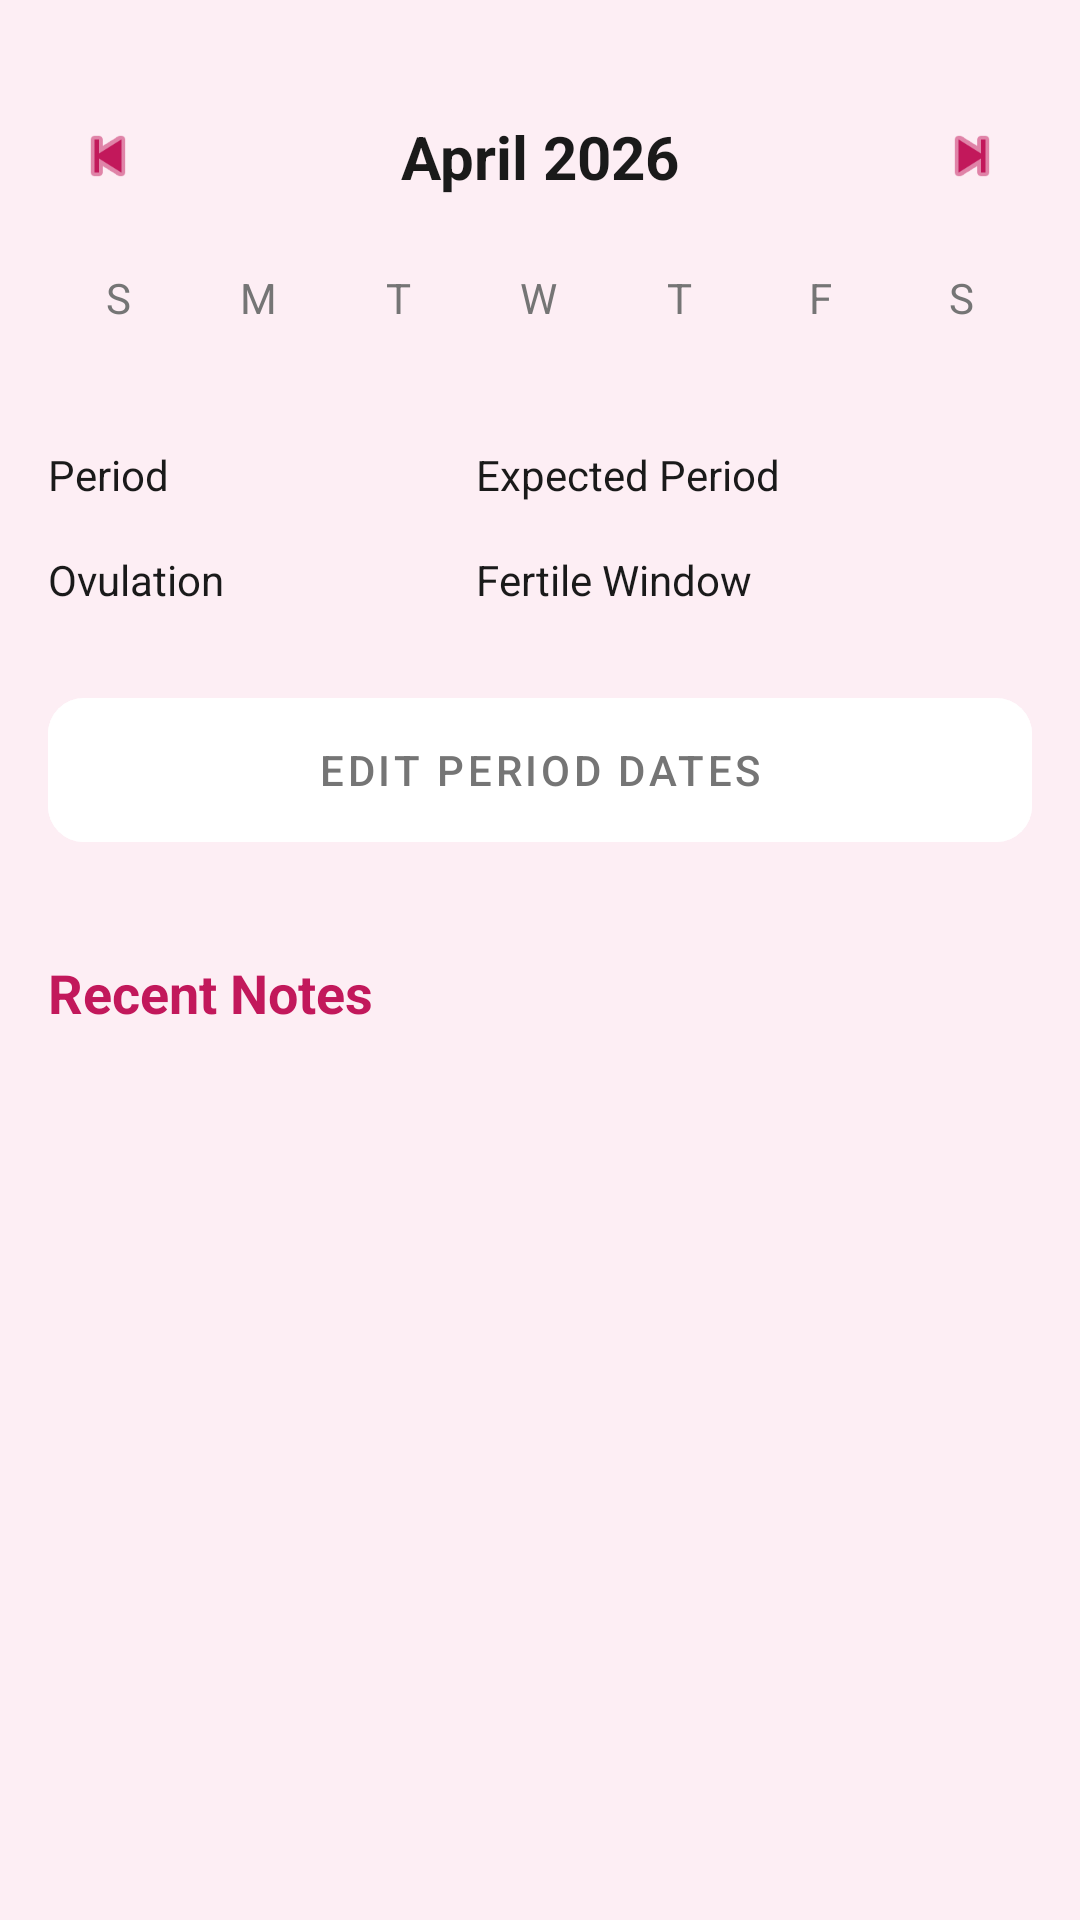

Named icons in this screenshot (1080w x 1920h) and their centers, point (x, y):
next: point (972, 156)
previous: point (108, 156)
